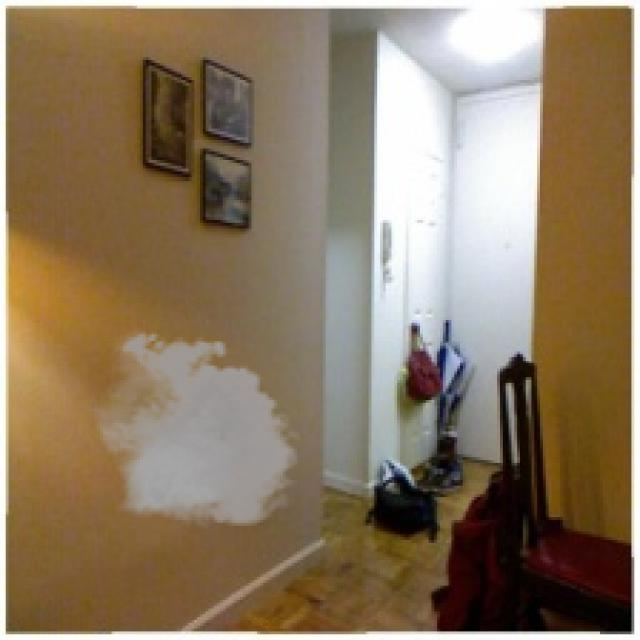smoke: (86, 326, 306, 534)
